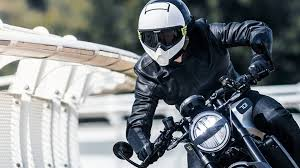com_capacete: (134, 1, 195, 73)
